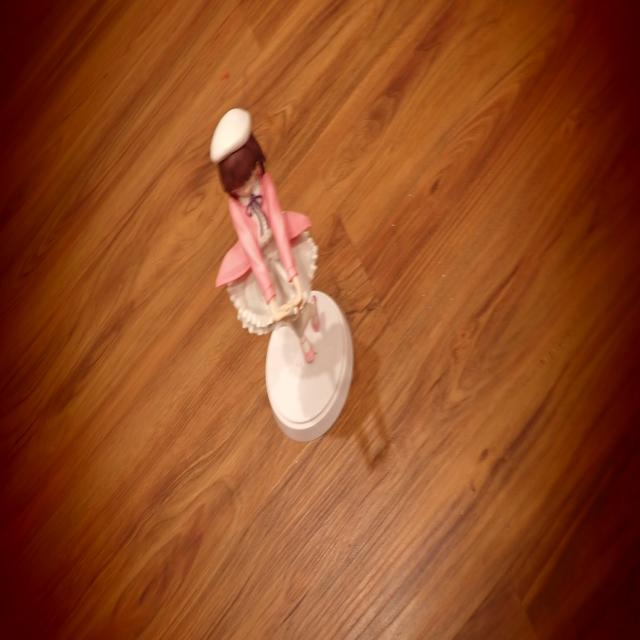My-pink-anime-figure: (211, 109, 319, 362)
